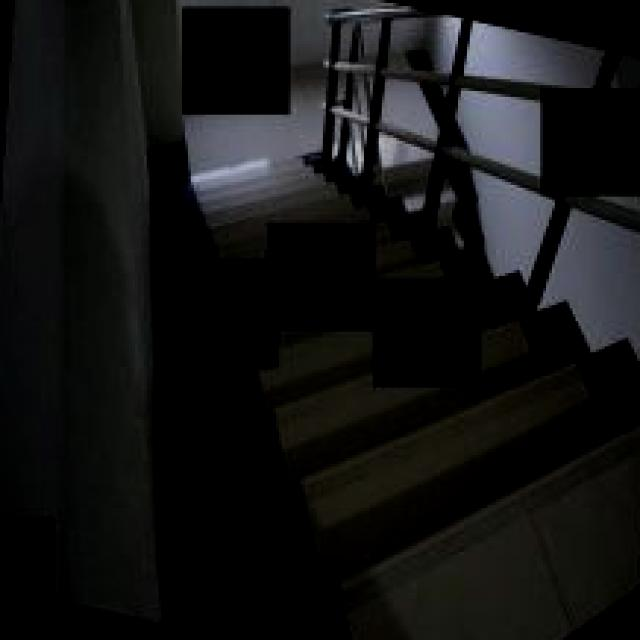downstair: (259, 406, 640, 640)
